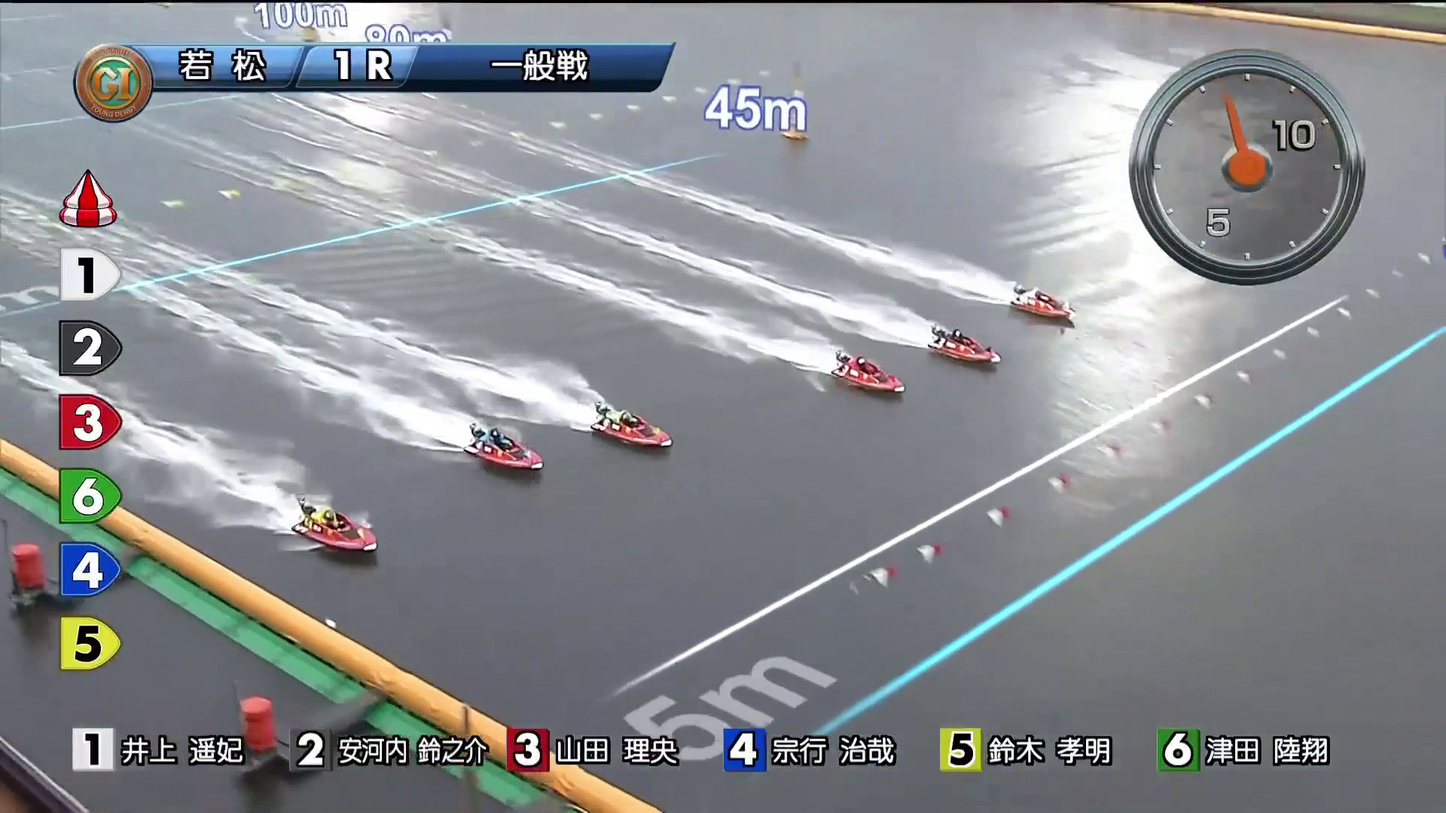１号艇: (992, 272, 1058, 318)
２号艇: (933, 319, 995, 357)
３号艇: (836, 347, 891, 389)
４号艇: (607, 405, 670, 448)
５号艇: (480, 447, 549, 485)
６号艇: (338, 540, 403, 586)
